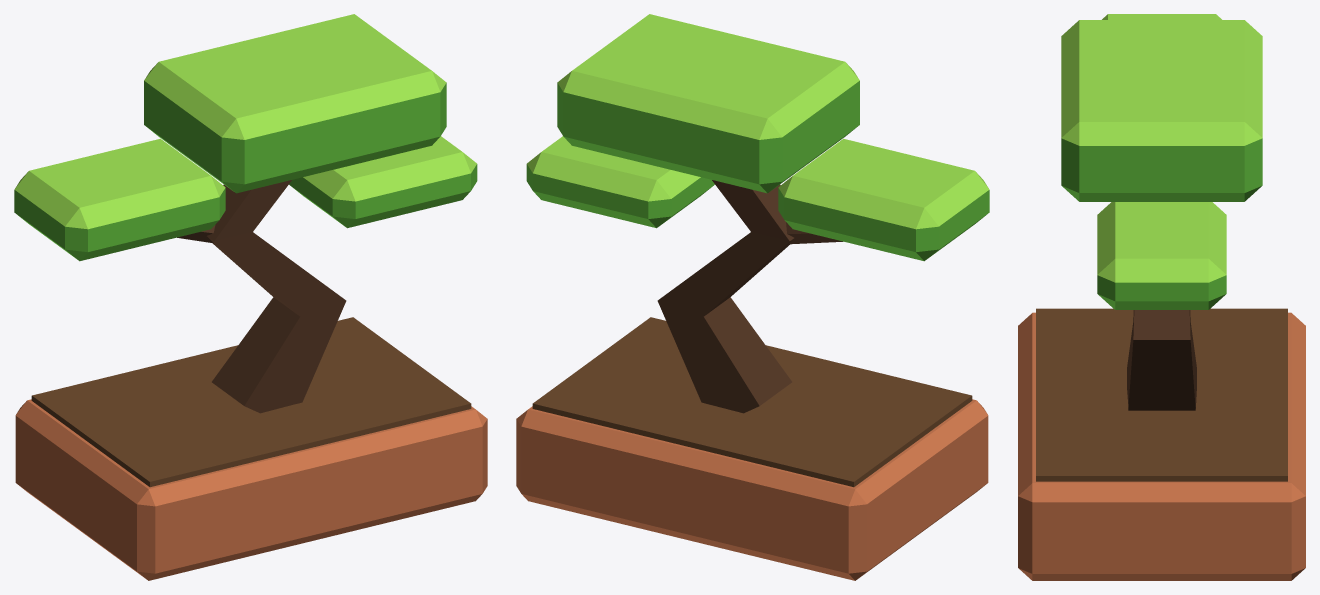
Rendered from Bonsai.fbx.
3 views of the same model, side by side, from view 1: azimuth 30°, elevation 25°; view 2: azimuth 150°, elevation 25°; view 3: azimuth 270°, elevation 25° (orthographic). The views are drawn at different scales.
Visible parts, largest first — view 1: Bonsai; view 2: Bonsai; view 3: Bonsai.
Part boxes in pixels (x1,y1,x2,y2): Bonsai: (14, 14, 487, 580); Bonsai: (516, 14, 989, 580); Bonsai: (1018, 14, 1305, 580).
Bounding box in the file's own units: 2.85 × 2.74 × 1.6.
1 material, 1 textured.
